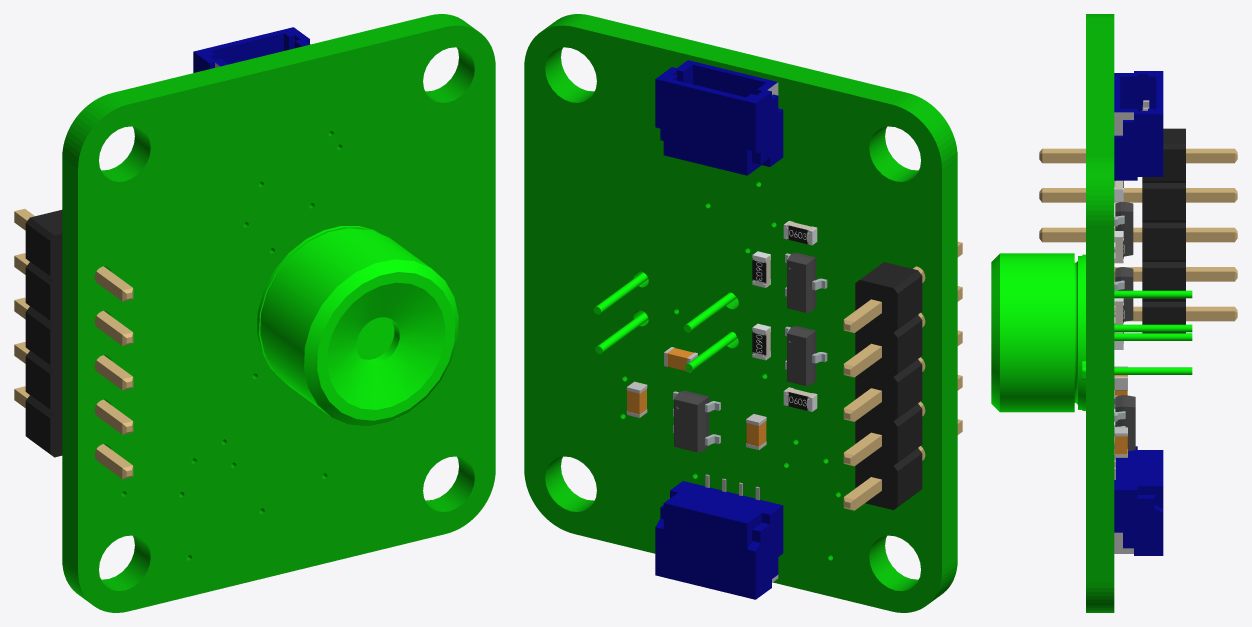
3 views of the same model, side by side, from view 1: azimuth 30°, elevation 25°; view 2: azimuth 150°, elevation 25°; view 3: azimuth 270°, elevation 25° (orthographic). The views are drawn at different scales.
Bounding box in the file's own units: 25 × 29 × 14.34.
